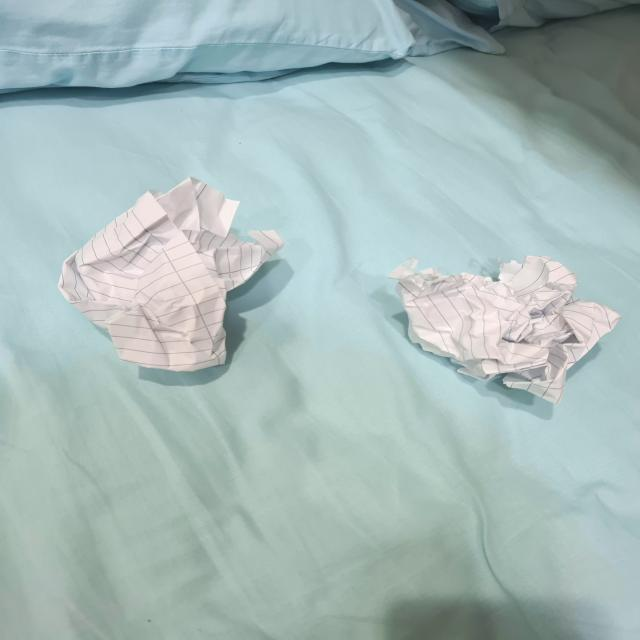Paper: (34, 170, 297, 384), (390, 224, 635, 428)
